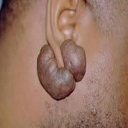Keloids: (40, 40, 86, 96)
